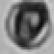correct: (5, 0, 52, 52)
